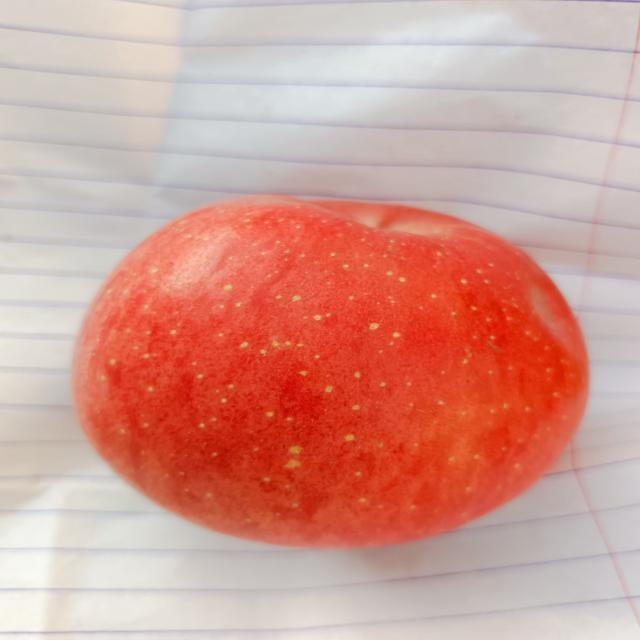Fresh Apple: (73, 202, 582, 553)
